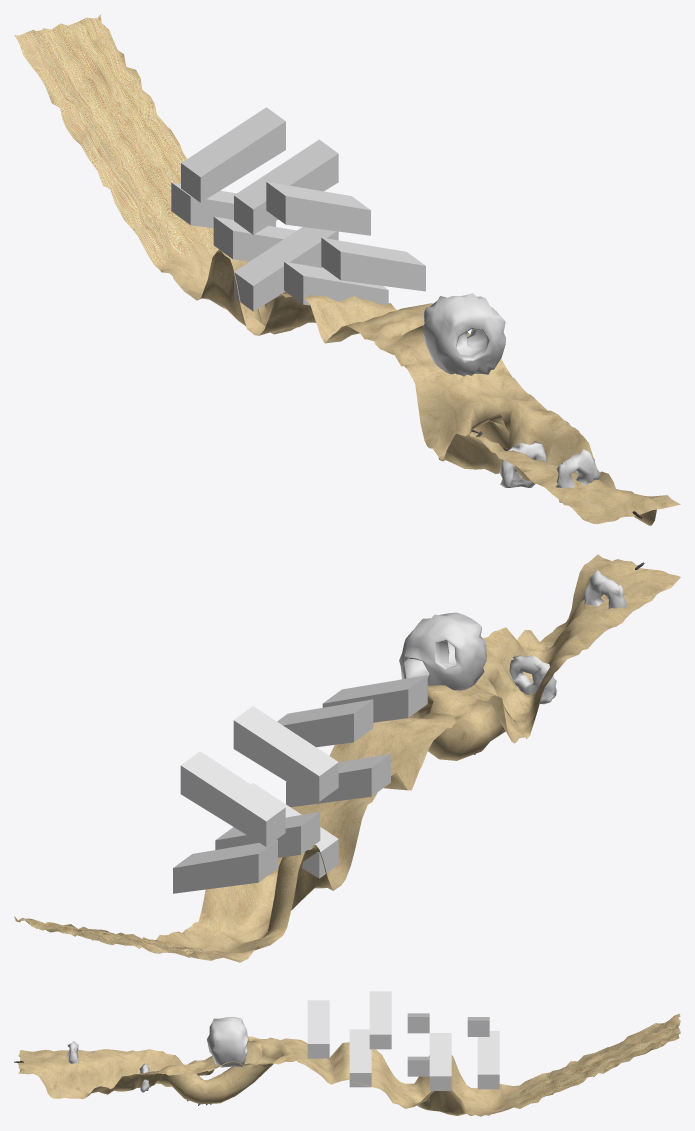
File: level.glb
3 views of the same model, one above another, from view 1: azimuth 30°, elevation 25°; view 2: azimuth 150°, elevation 25°; view 3: azimuth 270°, elevation 25° (orthographic). The views are drawn at different scales.
Visible parts, largest first — view 1: ground, split, Cube.006, Cube.008, Cube.004, Cube.002, Cube.003, Cube.001, Cube.005, Cube.007, holeRock.001, holeRock; view 2: ground, split, Cube.008, Cube.006, Cube.007, Cube.003, Cube.002, Cube.001, Cube.005, holeRock, Cube.004, holeRock.001; view 3: ground, split, Cube.002, Cube.003, Cube.005, Cube.001, Cube.007, Cube.004, Cube.008, Cube.006, holeRock.001.
Boxes of the visible parts, x1,y1,x2,y2 form: ground: [14, 14, 680, 525]; split: [423, 293, 505, 376]; Cube.006: [181, 107, 285, 202]; Cube.008: [234, 139, 338, 234]; Cube.004: [234, 227, 338, 311]; Cube.002: [321, 237, 425, 291]; Cube.003: [266, 182, 370, 235]; Cube.001: [284, 261, 388, 305]; Cube.005: [213, 216, 296, 261]; Cube.007: [171, 182, 275, 228]; holeRock.001: [556, 449, 600, 502]; holeRock: [499, 441, 546, 487]; ground: [14, 554, 680, 962]; split: [399, 612, 486, 690]; Cube.008: [233, 706, 338, 801]; Cube.006: [180, 751, 285, 846]; Cube.007: [173, 839, 277, 893]; Cube.003: [277, 699, 373, 747]; Cube.002: [322, 675, 427, 722]; Cube.001: [286, 753, 390, 806]; Cube.005: [215, 812, 320, 857]; holeRock: [509, 655, 556, 704]; Cube.004: [251, 783, 338, 878]; holeRock.001: [583, 569, 626, 626]; ground: [18, 1013, 680, 1116]; split: [207, 1017, 248, 1067]; Cube.002: [307, 1000, 329, 1058]; Cube.003: [369, 991, 391, 1049]; Cube.005: [429, 1033, 451, 1090]; Cube.001: [349, 1029, 371, 1087]; Cube.007: [477, 1031, 499, 1089]; Cube.004: [407, 1056, 429, 1076]; Cube.008: [407, 1013, 429, 1033]; Cube.006: [467, 1017, 489, 1036]; holeRock.001: [67, 1041, 78, 1063].
Size of the model in its own units: 29.21 by 61.82 by 334.
Materials: 3 (3 with a texture image).
